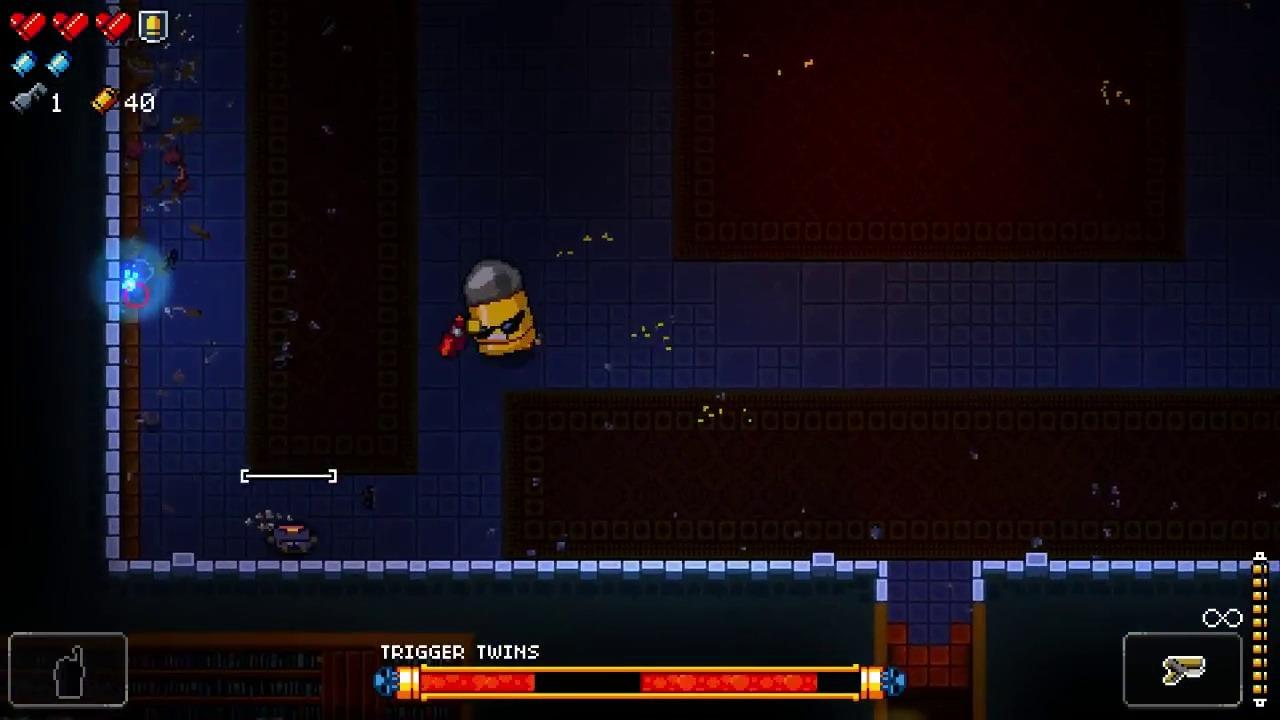boss_shades: (463, 260, 541, 357)
player: (271, 525, 321, 556)
